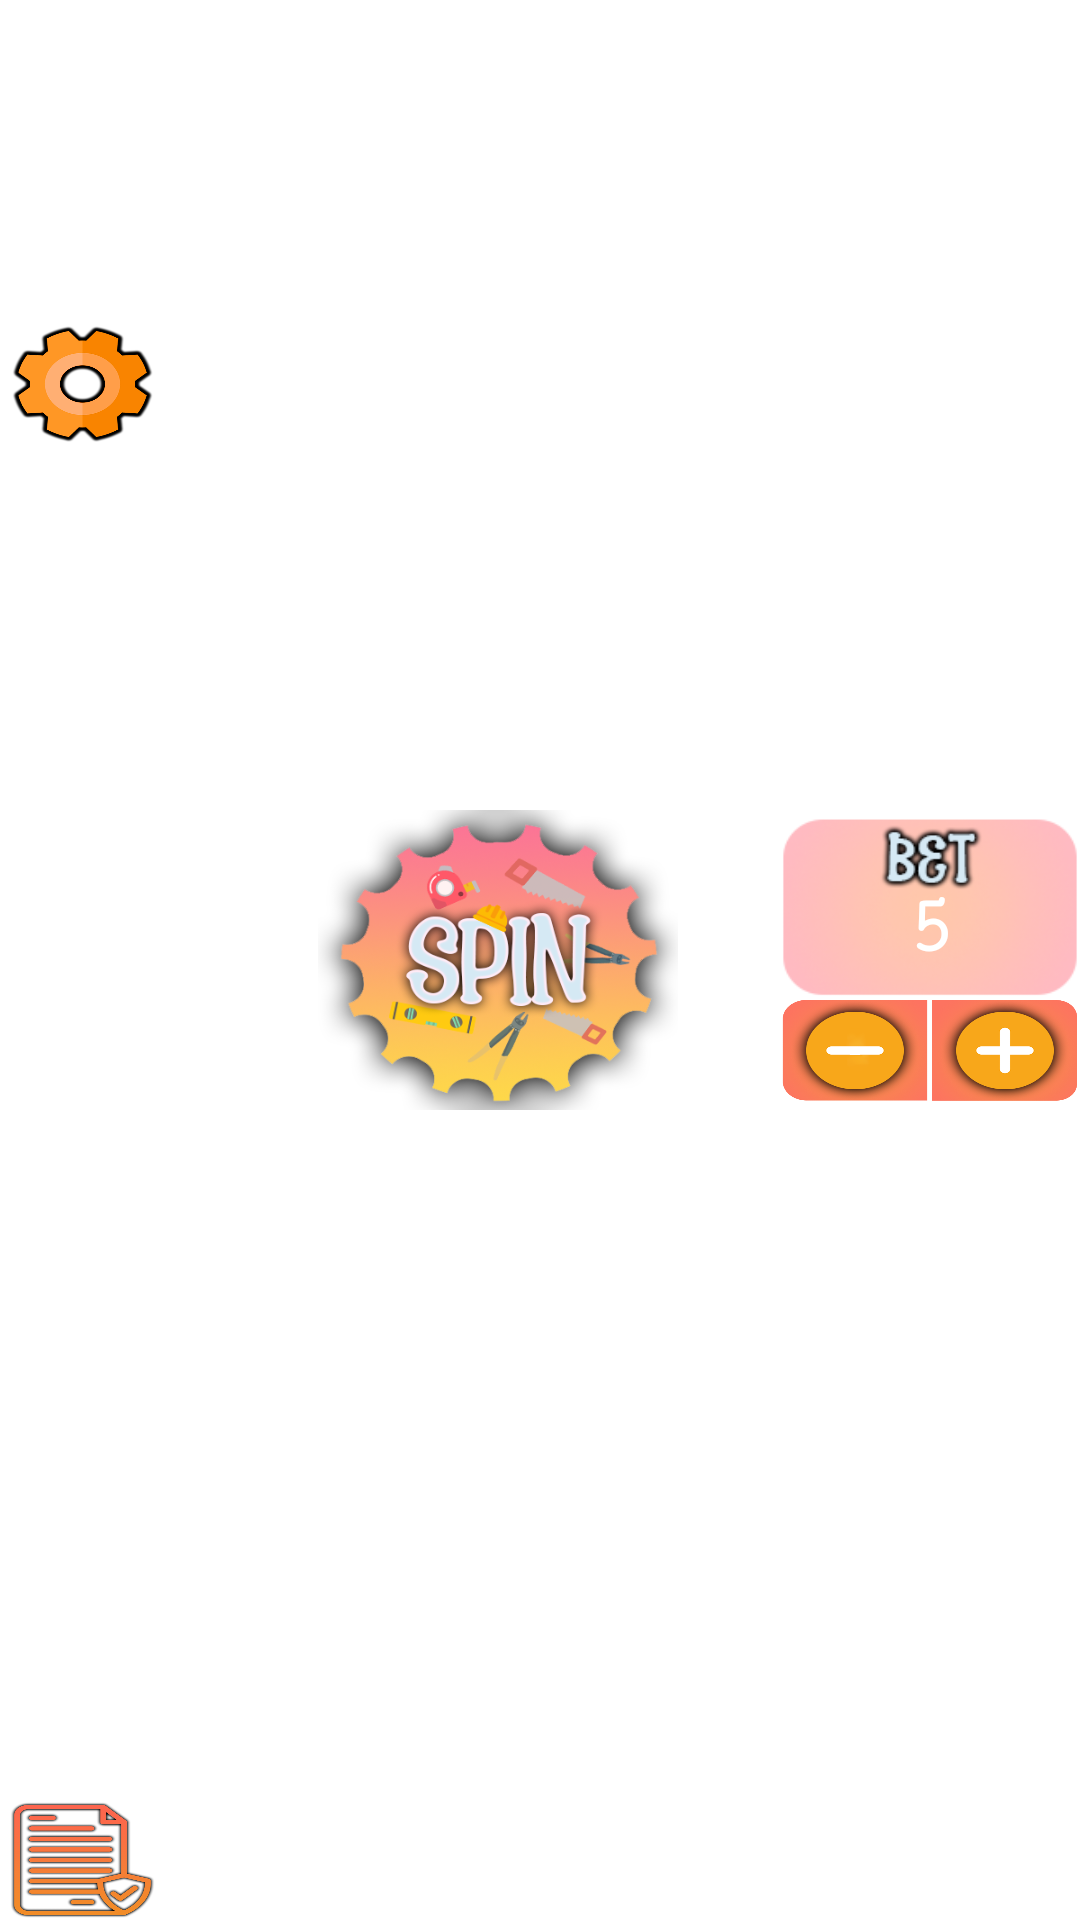

Point at icon controls on the screen. Image size 1080*1920, points as (x=x, y=y).
minus: (x=855, y=1050)
plus: (x=1004, y=1050)
settings: (x=82, y=384)
